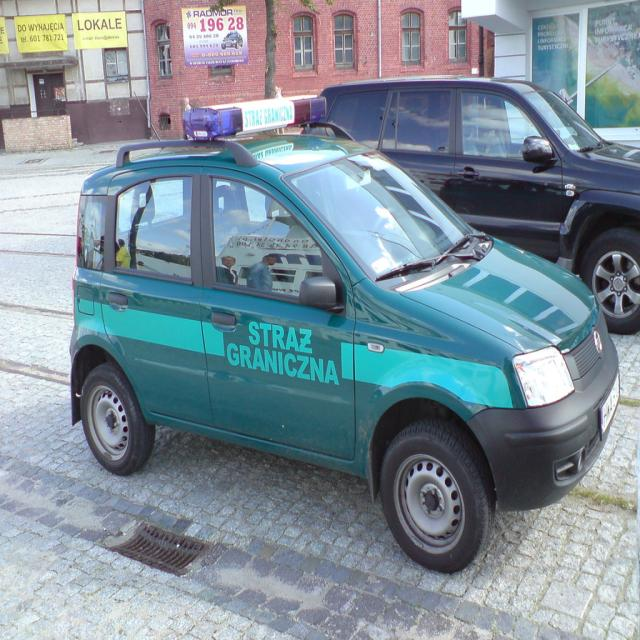car: (67, 101, 618, 573)
